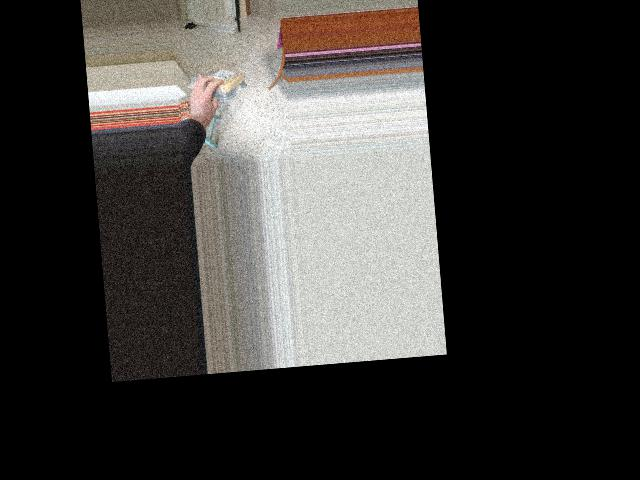cheese: (193, 67, 247, 97)
